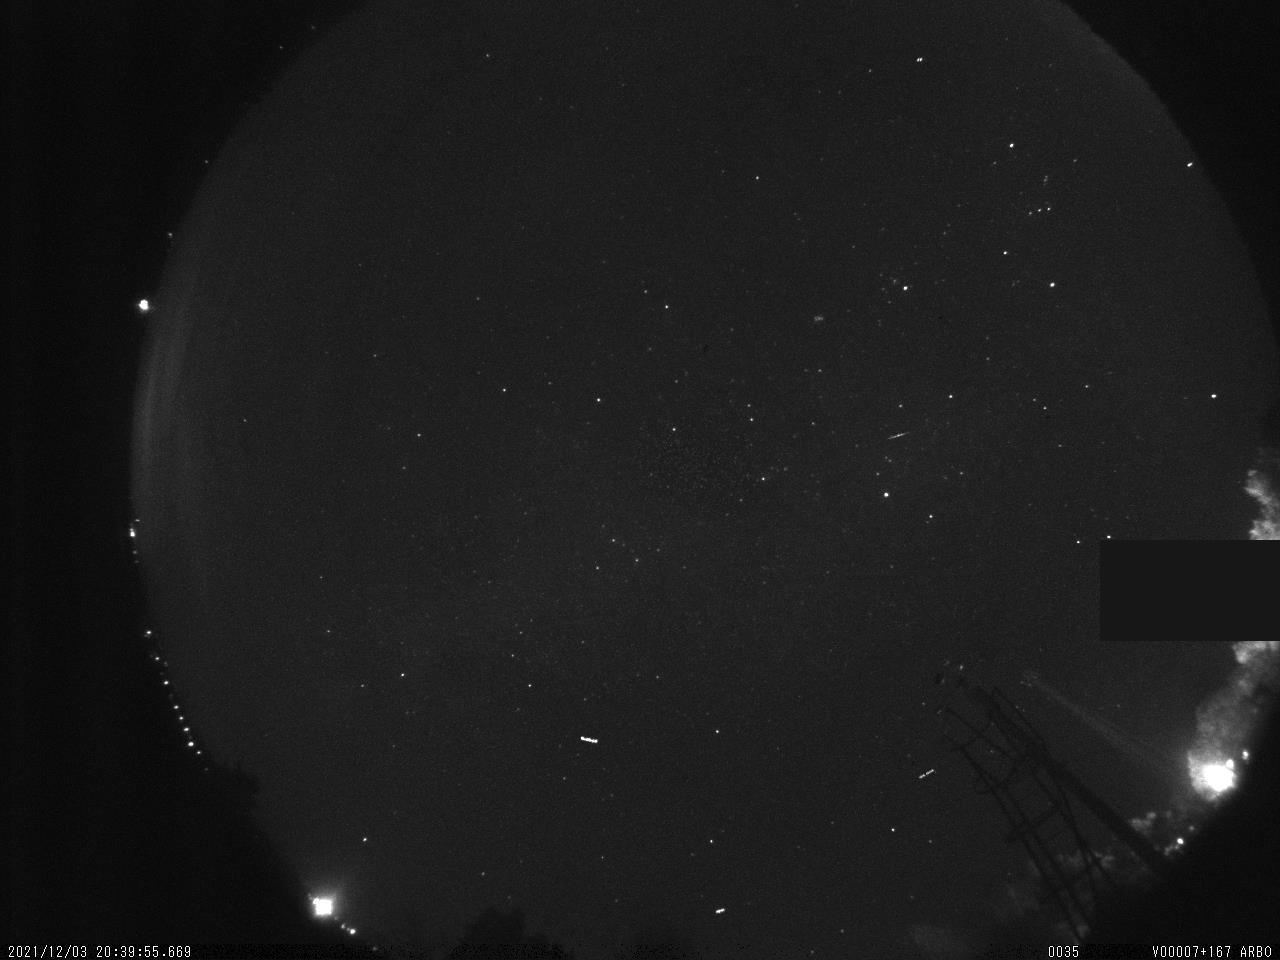meteor: (881, 426, 916, 445)
satelite: (912, 759, 941, 784), (576, 729, 601, 751)
